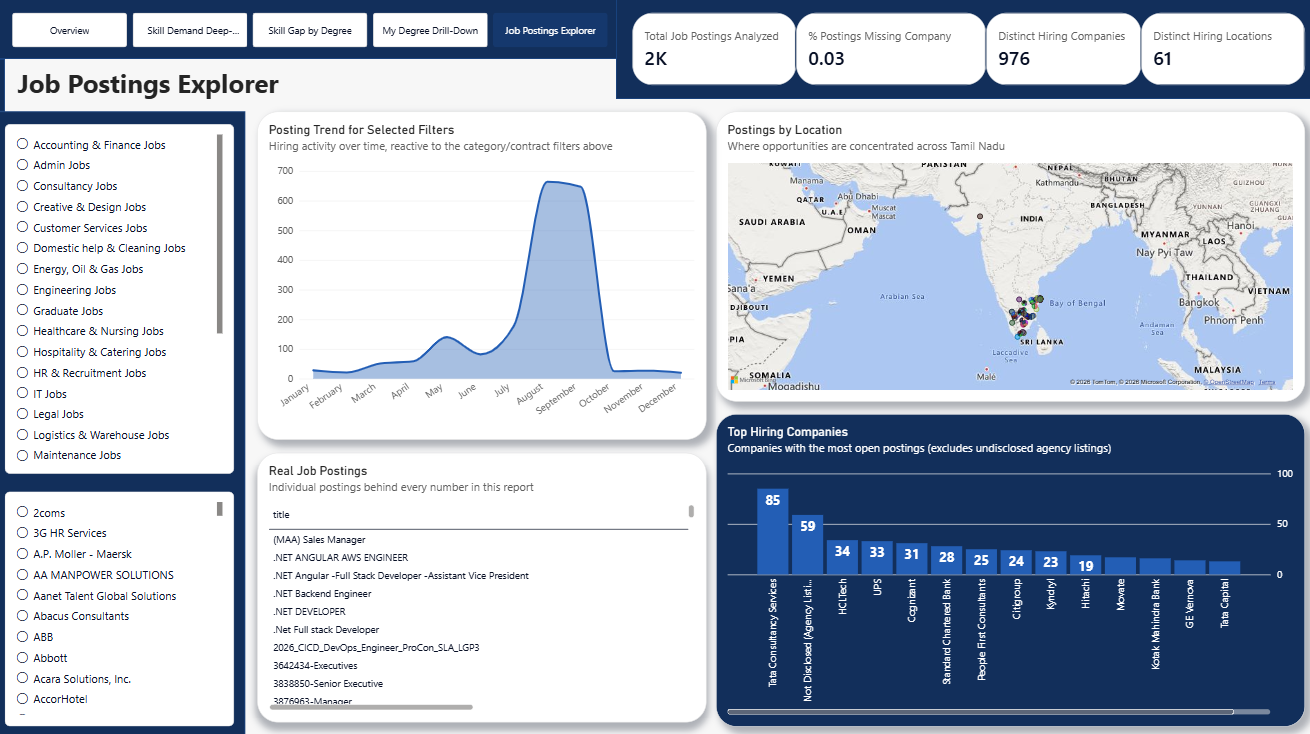

What the dashboard file says about the page in this screenshot:
{"tool":"powerbi","page":{"name":"Job Postings Explorer","canvas":[1920,1080],"ordinal":4},"visuals":[{"type":"shape","box":[905,0,1014,152],"z":0},{"type":"cardVisual","fields":{"Data":["_Measure.Total Job Postings Analyzed"]},"box":[927.5,27.5,237.5,105],"z":1000},{"type":"cardVisual","fields":{"Data":["_Measure.Percent Postings Missing Company"]},"box":[1165,27.5,275,105],"z":2000},{"type":"cardVisual","fields":{"Data":["_Measure.Distinct Companies"]},"box":[1440,27.5,225,105],"z":3000},{"type":"cardVisual","fields":{"Data":["_Measure.Distinct Locations"]},"box":[1665,27.5,237.5,105],"z":4000},{"type":"tableEx","title":"Real Job Postings","fields":{"Values":["job_postings_detail.title","job_postings_detail.location","job_postings_detail.skills_found_clean","job_postings_detail.created.Variation.Date Hierarchy.Month"]},"box":[385,665,650,390],"z":5000},{"type":"map","title":"Postings by Location","fields":{"Category":["job_postings_detail.location"],"Series":["job_postings_detail.title"]},"box":[1050,170,852.5,420],"z":6000},{"type":"areaChart","title":"Posting Trend for Selected Filters","fields":{"Category":["job_postings_detail.created.Variation.Date Hierarchy.Month"],"Y":["CountNonNull(job_postings_detail.title)"]},"box":[385,170,650,475],"z":7000},{"type":"clusteredColumnChart","title":"Top Hiring Companies","fields":{"Category":["job_postings_detail.company"],"Y":["CountNonNull(job_postings_detail.title)"]},"box":[1050,607.5,852.5,452.5],"z":8000},{"type":"shape","box":[0,0,906,94],"z":9000},{"type":"pageNavigator","box":[30,28,866,50],"z":10000},{"type":"shape","box":[0,94,20,76],"z":11000},{"type":"shape","box":[0,170,368,910],"z":12000},{"type":"listSlicer","fields":{"Values":["job_postings_detail.category"]},"box":[20,188,332,506],"z":13000},{"type":"listSlicer","fields":{"Values":["job_postings_detail.company"]},"box":[20,720,332,340],"z":14000}]}

Visuals, with their boxes on the page's 1920x1080 design canvas (x1, y1, x2, y2). These are canvas units, not pixel positions in the 1310x734 screenshot, which may show the page scaled, cropped or inside an application window:
shape: (905, 0, 1919, 152)
cardVisual - _Measure.Total Job Postings Analyzed: (928, 28, 1165, 132)
cardVisual - _Measure.Percent Postings Missing Company: (1165, 28, 1440, 132)
cardVisual - _Measure.Distinct Companies: (1440, 28, 1665, 132)
cardVisual - _Measure.Distinct Locations: (1665, 28, 1902, 132)
"Real Job Postings" tableEx: (385, 665, 1035, 1055)
"Postings by Location" map: (1050, 170, 1902, 590)
"Posting Trend for Selected Filters" areaChart: (385, 170, 1035, 645)
"Top Hiring Companies" clusteredColumnChart: (1050, 608, 1902, 1060)
shape: (0, 0, 906, 94)
pageNavigator: (30, 28, 896, 78)
shape: (0, 94, 20, 170)
shape: (0, 170, 368, 1080)
listSlicer - job_postings_detail.category: (20, 188, 352, 694)
listSlicer - job_postings_detail.company: (20, 720, 352, 1060)
